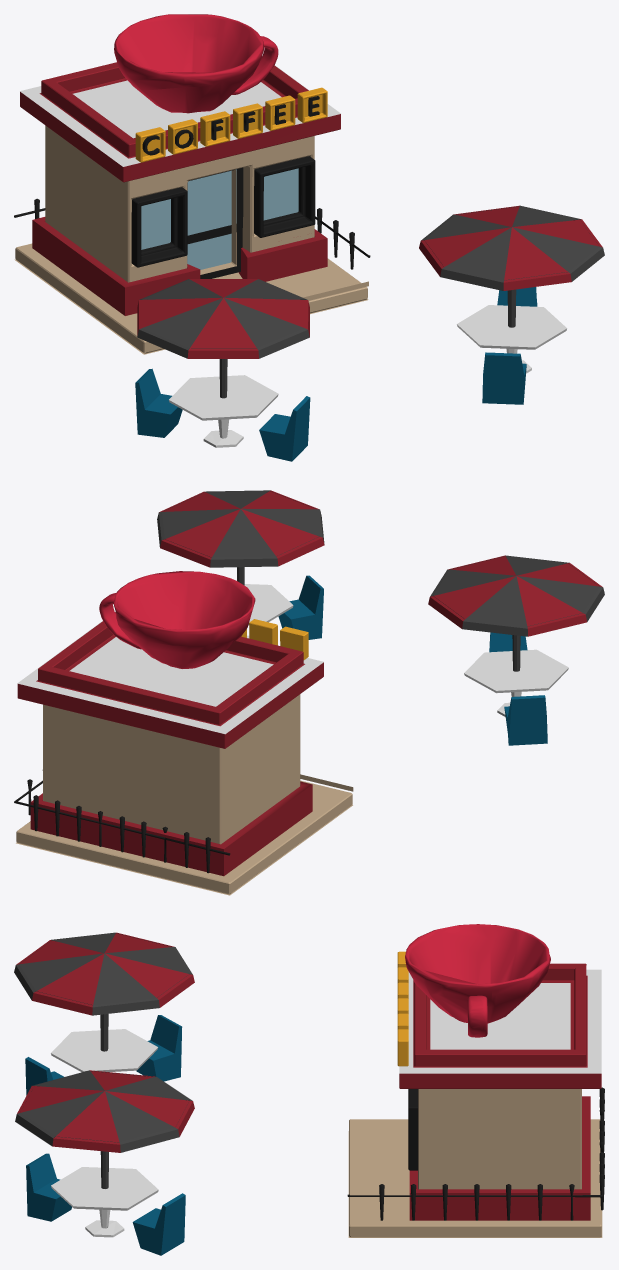
3 renders of one model, top to bottom at view 1: azimuth 30°, elevation 25°; view 2: azimuth 150°, elevation 25°; view 3: azimuth 270°, elevation 25°, orthographic. The views are drawn at different scales.
Visible parts, largest first — view 1: Coffee Shop; view 2: Coffee Shop; view 3: Coffee Shop.
Part boxes in pixels (x1=…): Coffee Shop: x1=14, y1=14, x2=604, y2=461; Coffee Shop: x1=14, y1=490, x2=604, y2=895; Coffee Shop: x1=14, y1=924, x2=604, y2=1255.
Bounding box in the file's own units: 39.89 × 20.02 × 46.6.
